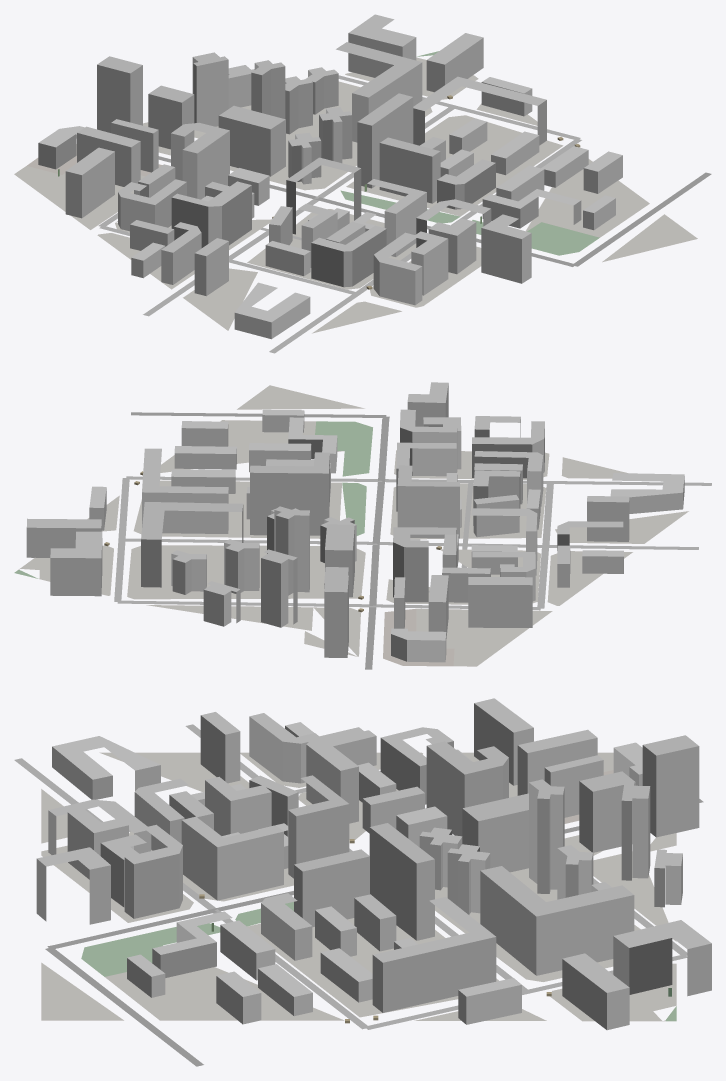
3 views of the same model, one above another, from view 1: azimuth 30°, elevation 25°; view 2: azimuth 150°, elevation 25°; view 3: azimuth 270°, elevation 25° (orthographic). The views are drawn at different scales.
Bounding box in the file's own units: 639 × 83.13 × 549.
